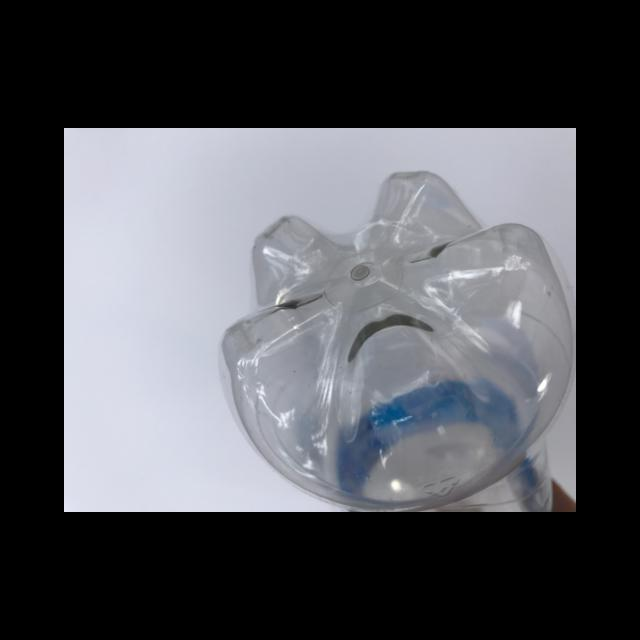plastic: (217, 169, 575, 511)
